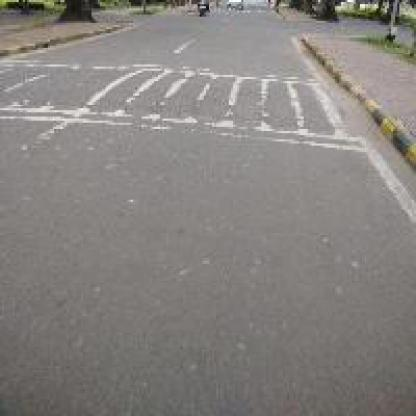Speed Bump: (0, 52, 377, 153)
